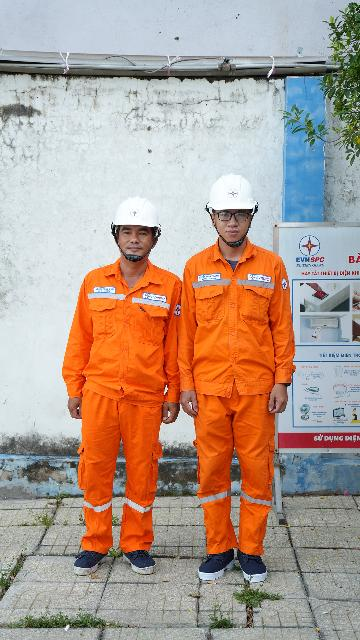helmet: (191, 172, 268, 228), (97, 193, 183, 237)
shoes: (230, 533, 283, 588), (66, 539, 107, 597), (111, 547, 160, 586), (186, 547, 235, 583)
